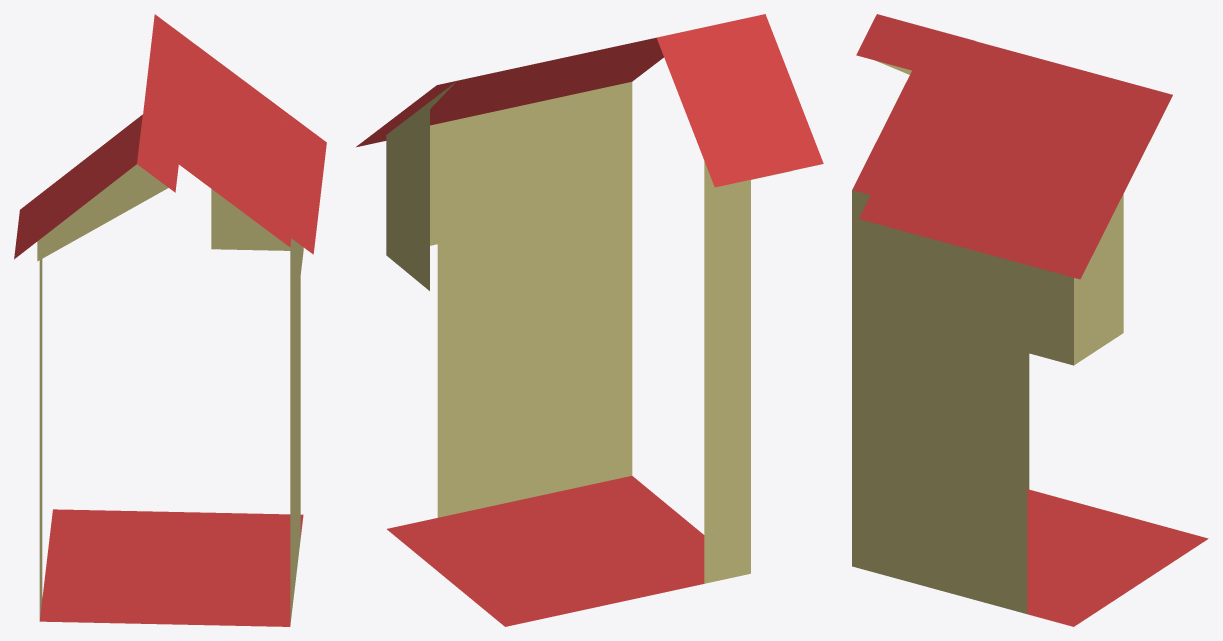
The picture shows the model from 3 angles, left to right: view 1: azimuth 30°, elevation 25°; view 2: azimuth 150°, elevation 25°; view 3: azimuth 270°, elevation 25°; orthographic projection. The views are drawn at different scales.
Bounding box in the file's own units: 9.9 × 8.07 × 12.08.
